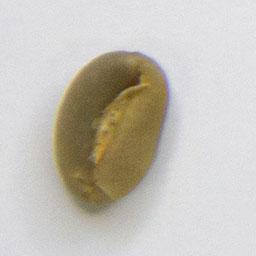premium: (50, 45, 175, 208)
